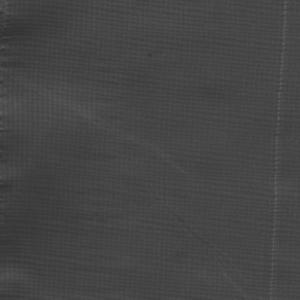Wrinkle: (9, 63, 197, 184), (160, 205, 268, 300)
